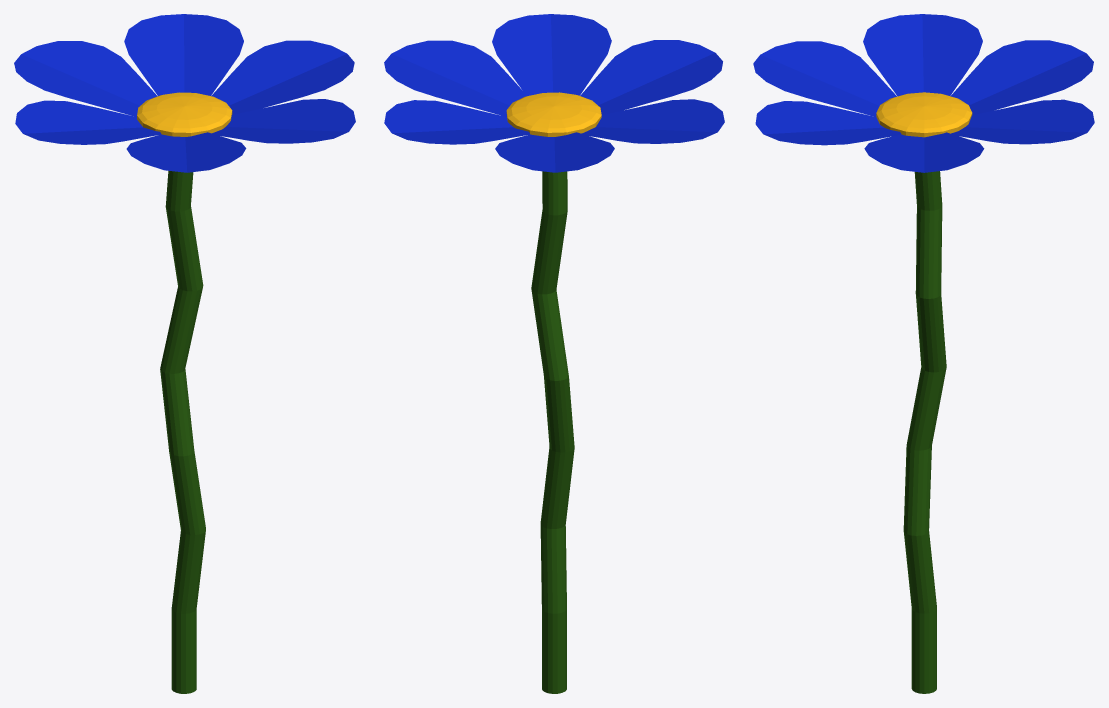
File: blueflower.fbx
The picture shows the model from 3 angles, left to right: view 1: azimuth 30°, elevation 25°; view 2: azimuth 150°, elevation 25°; view 3: azimuth 270°, elevation 25°; orthographic projection.
Visible parts, largest first — view 1: Circle, Circle.001; view 2: Circle, Circle.001; view 3: Circle, Circle.001.
Boxes of the visible parts, left/top/right/bottom form: Circle: left=14, top=14, right=355, bottom=172; Circle.001: left=137, top=92, right=232, bottom=693; Circle: left=384, top=14, right=724, bottom=172; Circle.001: left=506, top=92, right=601, bottom=693; Circle: left=753, top=14, right=1094, bottom=172; Circle.001: left=876, top=92, right=972, bottom=693.
Size of the model in its own units: 31.33 by 54.86 by 28.46.
